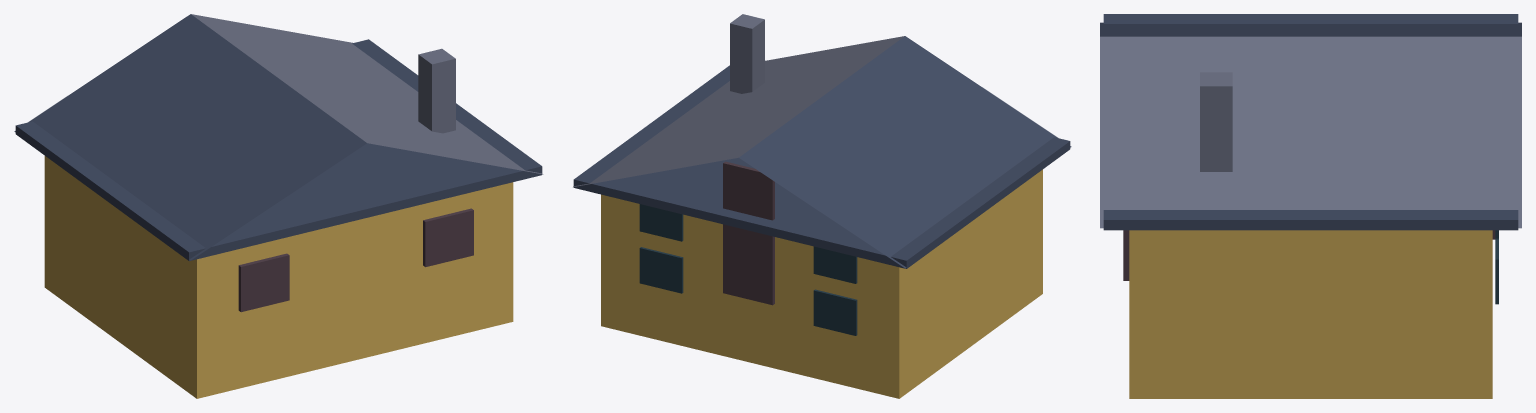
Rendered from house_yellow_dark.glb.
The picture shows the model from 3 angles, left to right: view 1: azimuth 30°, elevation 25°; view 2: azimuth 150°, elevation 25°; view 3: azimuth 270°, elevation 25°; orthographic projection. The views are drawn at different scales.
Visible parts, largest first — view 1: house_yellow_dark; view 2: house_yellow_dark; view 3: house_yellow_dark.
Boxes of the visible parts, x1,y1,x2,y2 form: house_yellow_dark: (14,14,543,398); house_yellow_dark: (573,14,1071,398); house_yellow_dark: (1100,14,1521,398).
Size of the model in its own units: 6.7 by 4.5 by 5.8.
